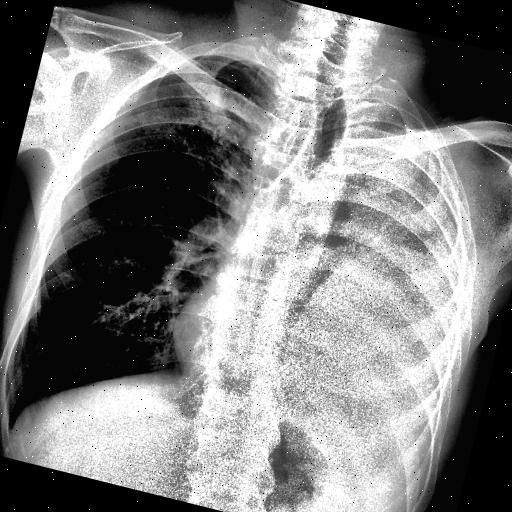1- Atelectasis: (217, 79, 512, 507)
10- Pleural effusion: (217, 79, 512, 507), (235, 74, 512, 495), (262, 100, 496, 427)
13- Pulmonary fibrosis: (139, 65, 268, 174), (152, 68, 220, 134)
6- Infiltration: (152, 68, 220, 134)
7- Lung Opacity: (235, 74, 512, 495)
